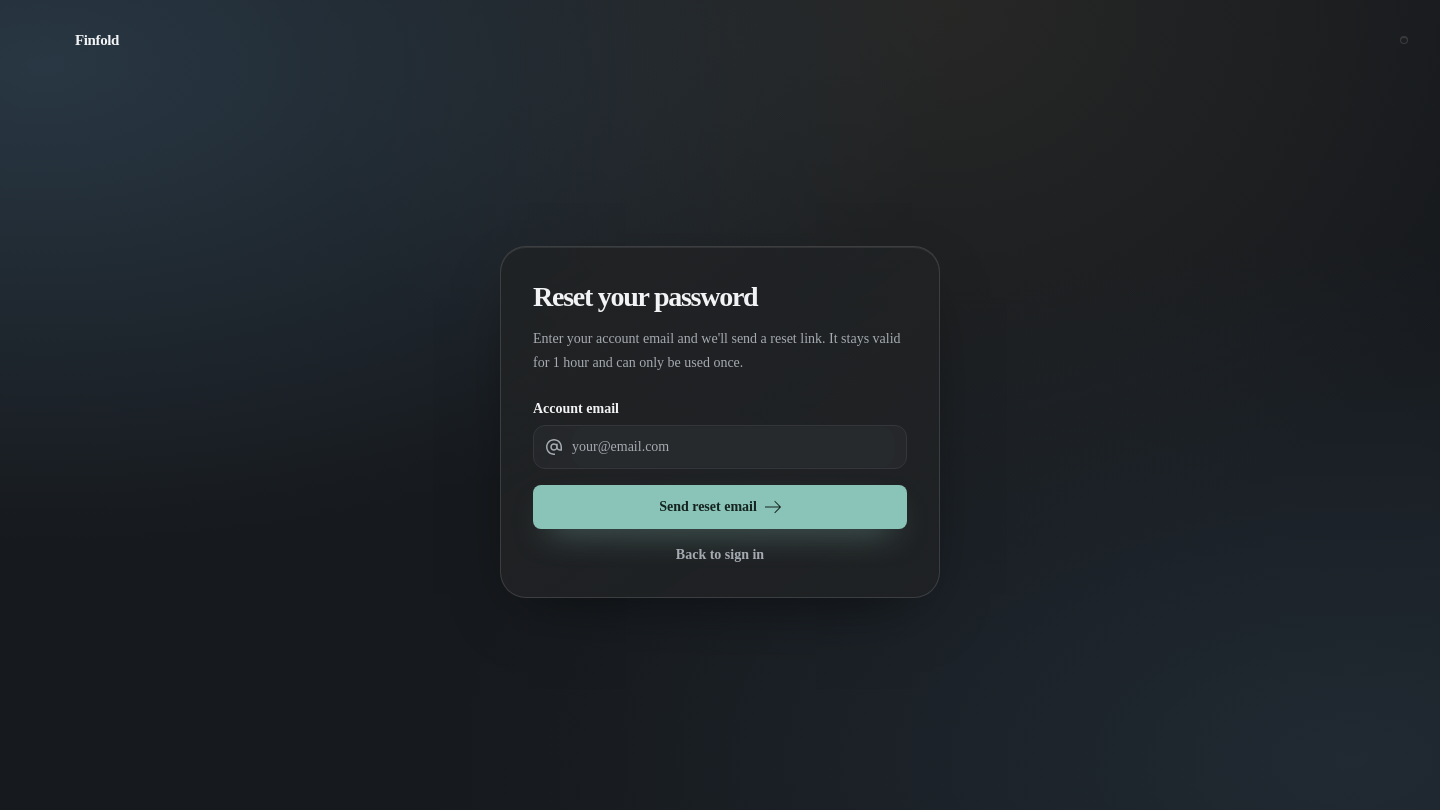
PasswordRecoveryPanel request mode › submits the email and shows the sent state without leaking account existence
Type "person@example.com" into the field with test id "forgot-password-email".
click(733, 447); type("person@example.com")  # box [572,427,894,467]
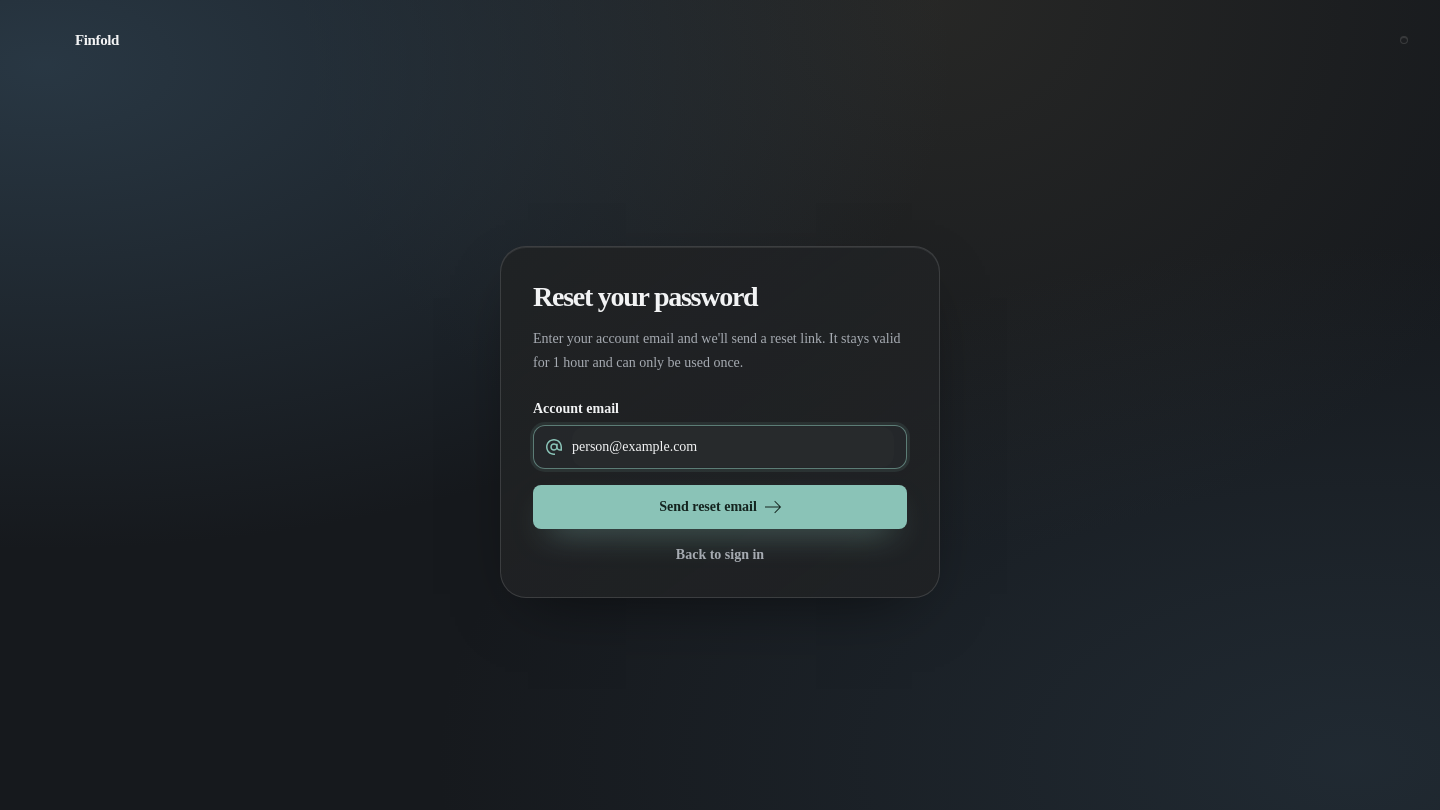
Click the button with test id "forgot-password-submit".
click(720, 507)  # box [533,485,907,529]
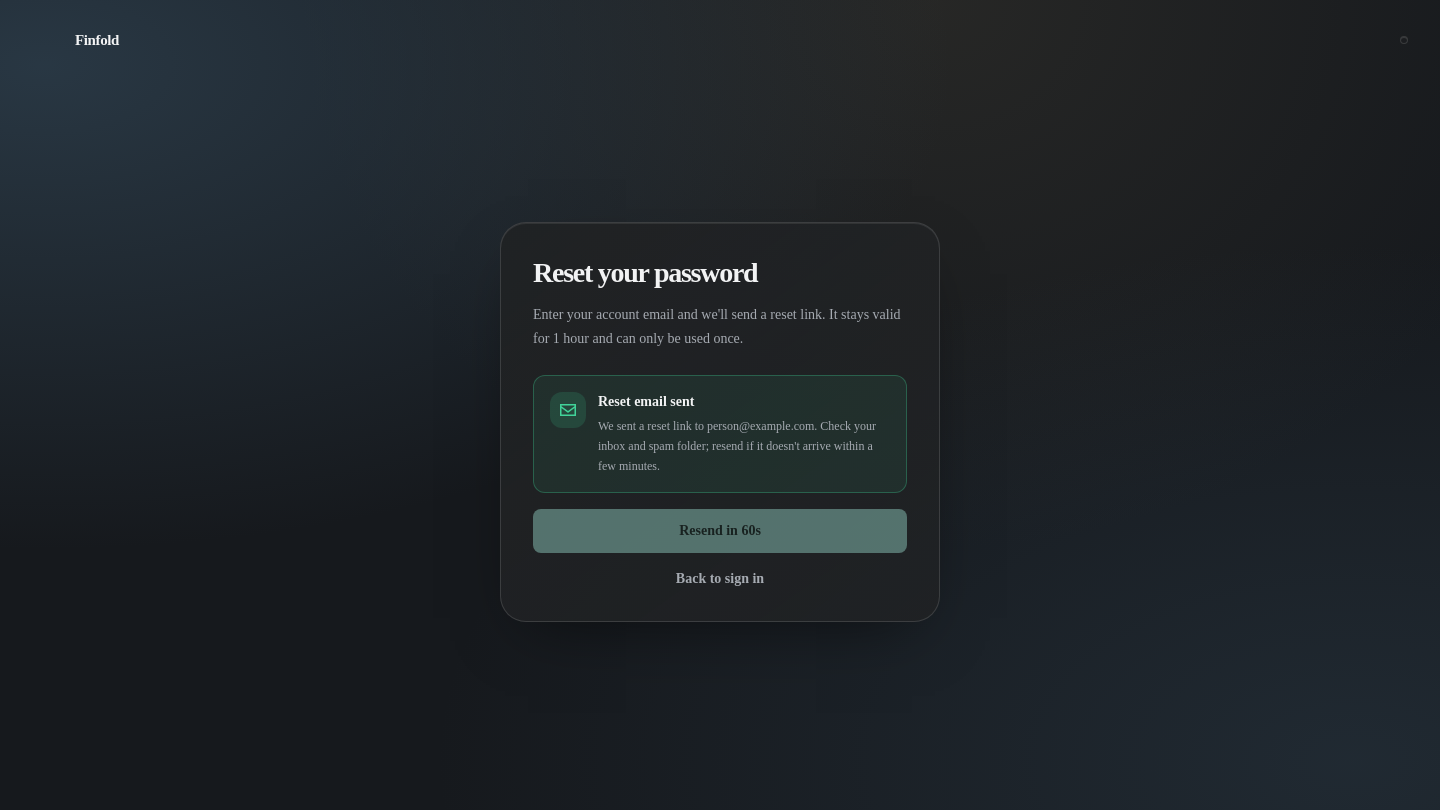
expect the element with test id "forgot-password-sent" is shown: met, box [533,375,907,589]
expect the text "person@example.com" is shown: met, box [598,419,876,473]
